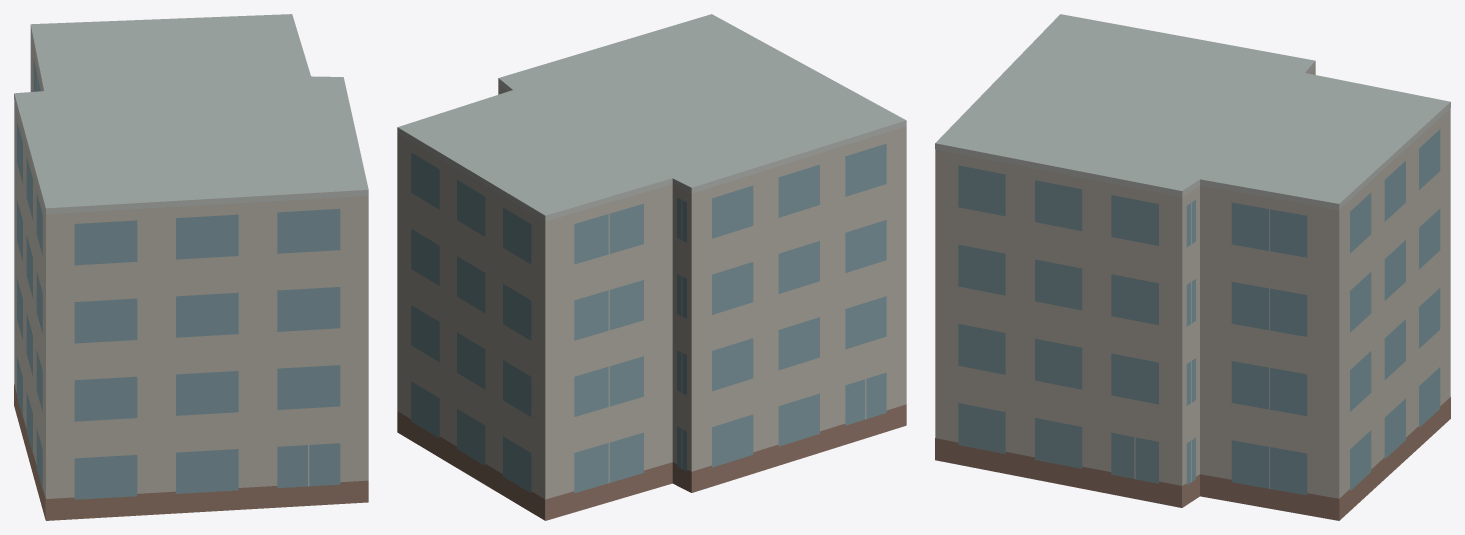
The model's file is survey-upis-32672107.glb.
3 renders of one model, left to right at view 1: azimuth 30°, elevation 25°; view 2: azimuth 150°, elevation 25°; view 3: azimuth 270°, elevation 25°, orthographic. The views are drawn at different scales.
Visible parts, largest first — view 1: survey-upis-32672107.tmp; view 2: survey-upis-32672107.tmp; view 3: survey-upis-32672107.tmp.
Boxes of the visible parts, x1,y1,x2,y2 form: survey-upis-32672107.tmp: [14, 14, 368, 520]; survey-upis-32672107.tmp: [397, 14, 906, 520]; survey-upis-32672107.tmp: [935, 14, 1450, 520].
Bounding box in the file's own units: 16.46 × 12.8 × 18.88.
